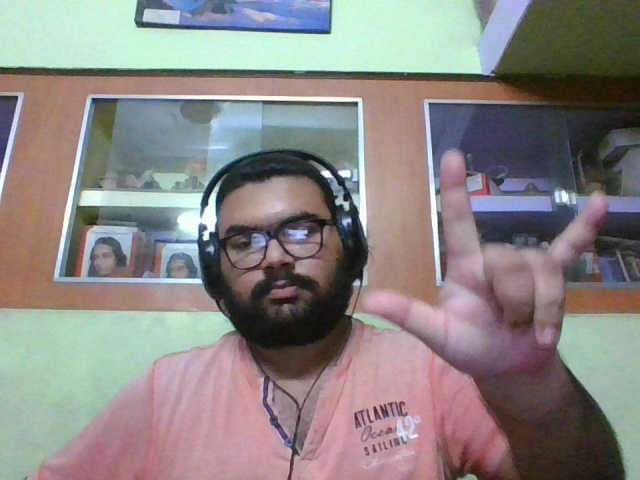hello: (361, 148, 612, 380)
